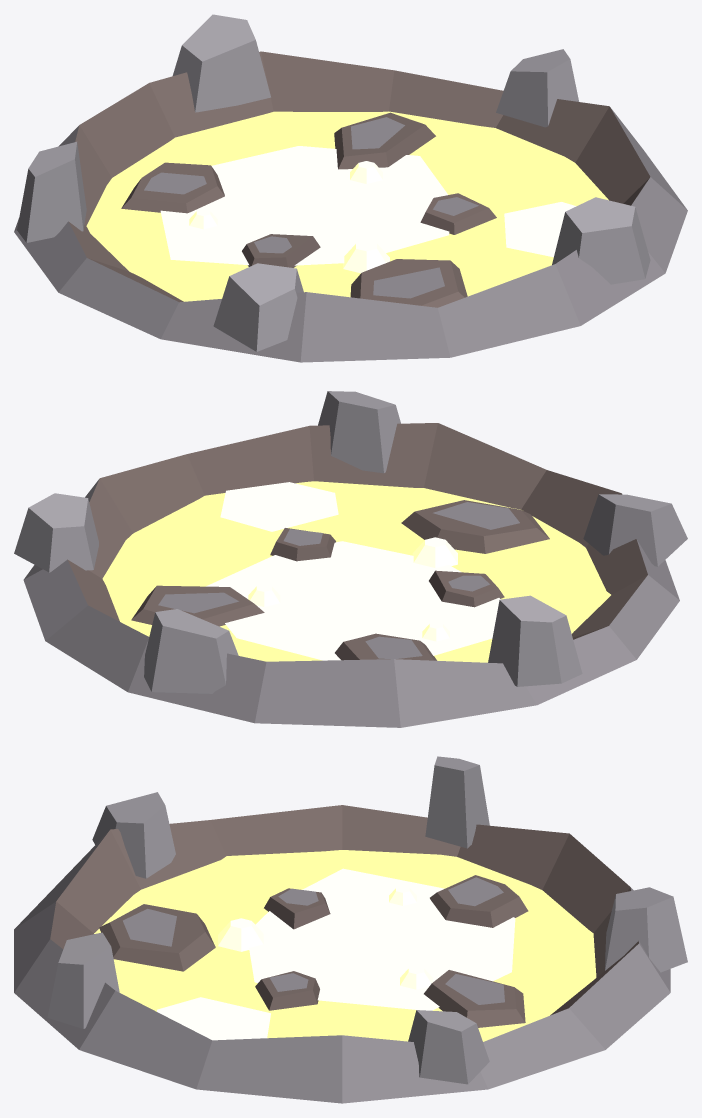
File: prop_kragmar_lavapool.glb
3 renders of one model, top to bottom at view 1: azimuth 30°, elevation 25°; view 2: azimuth 150°, elevation 25°; view 3: azimuth 270°, elevation 25°, orthographic. The views are drawn at different scales.
Visible parts, largest first — view 1: prop_kragmar_lavapool; view 2: prop_kragmar_lavapool; view 3: prop_kragmar_lavapool.
Boxes of the visible parts, x1=… form: prop_kragmar_lavapool: x1=14, y1=14, x2=687, y2=362; prop_kragmar_lavapool: x1=14, y1=391, x2=687, y2=727; prop_kragmar_lavapool: x1=14, y1=756, x2=687, y2=1103.
Bounding box in the file's own units: 5 × 0.7099 × 5.
